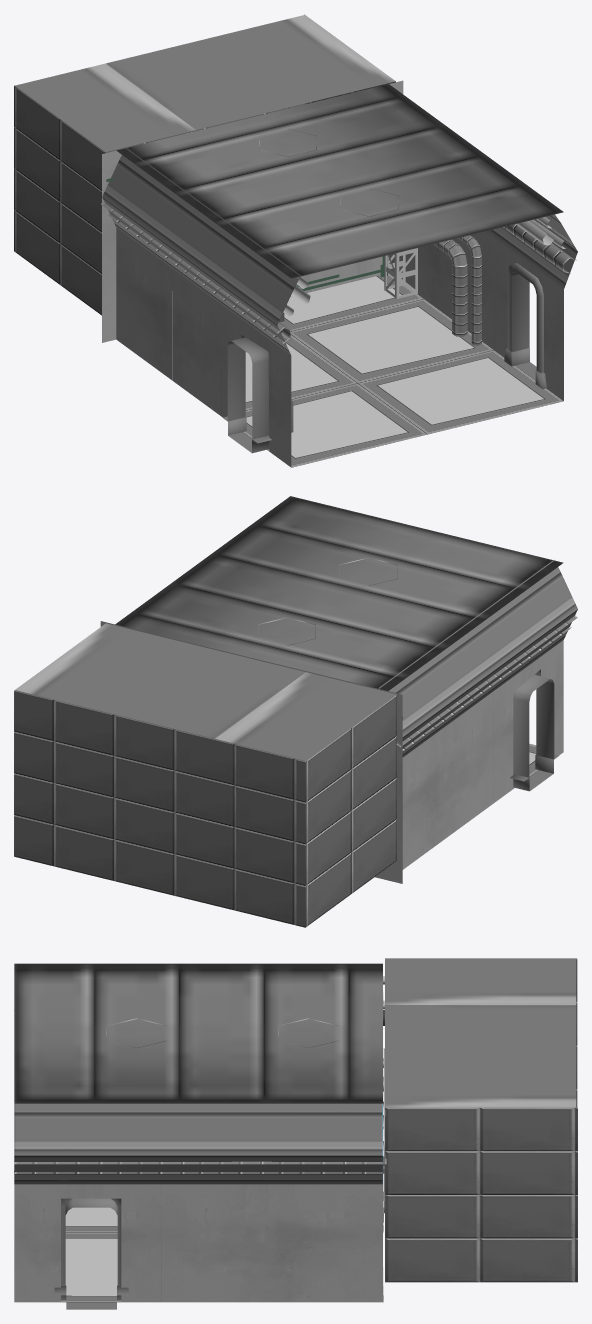
File: MSH_Power_Plant_room_L1_R1_optimized.fbx
The picture shows the model from 3 angles, top to bottom: view 1: azimuth 30°, elevation 25°; view 2: azimuth 150°, elevation 25°; view 3: azimuth 270°, elevation 25°; orthographic projection. The views are drawn at different scales.
Visible parts, largest first — view 1: lightmap0, lightmap1, lightmap-1; view 2: lightmap0, lightmap-1, lightmap1; view 3: lightmap0, lightmap1, lightmap-1.
Part boxes in pixels (x1=…): lightmap0: x1=14, y1=14, x2=577, y2=467; lightmap1: x1=101, y1=107, x2=576, y2=432; lightmap-1: x1=227, y1=271, x2=536, y2=453; lightmap0: x1=14, y1=496, x2=577, y2=927; lightmap-1: x1=513, y1=675, x2=554, y2=791; lightmap1: x1=396, y1=615, x2=577, y2=751; lightmap0: x1=14, y1=958, x2=577, y2=1302; lightmap1: x1=14, y1=976, x2=386, y2=1222; lightmap-1: x1=65, y1=1198, x2=117, y2=1309.
Size of the model in its own units: 10.3 by 6.23 by 15.84.
